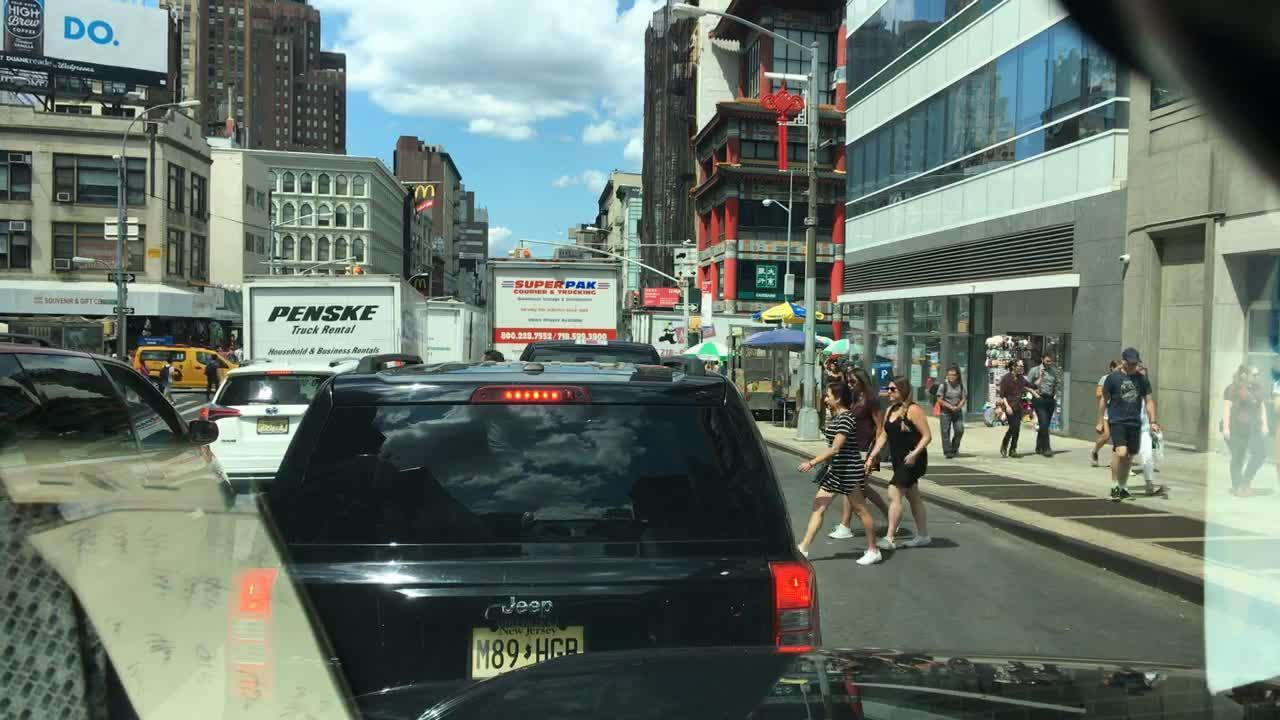jeep: (487, 588, 576, 622)
